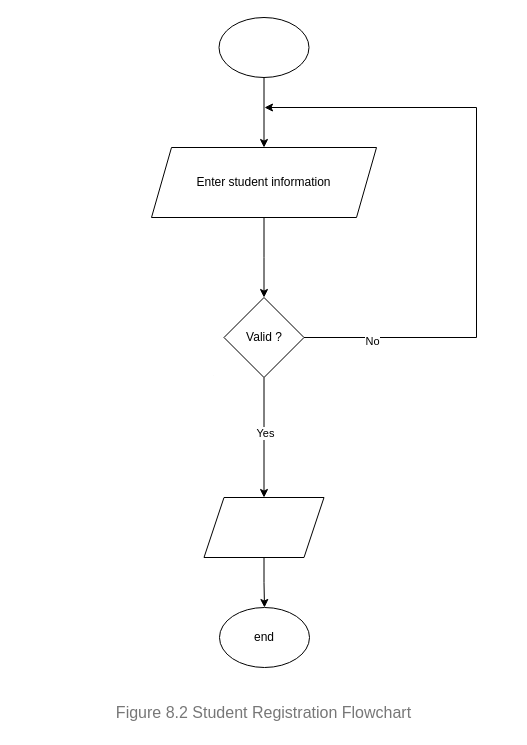
Some shapes in this 527 by 745 pixel diagram are drawn without their labels. The centre of each missing label's shape, as x and y in pixels:
Display "Created Account": pixel 263 527
start: pixel 263 47
